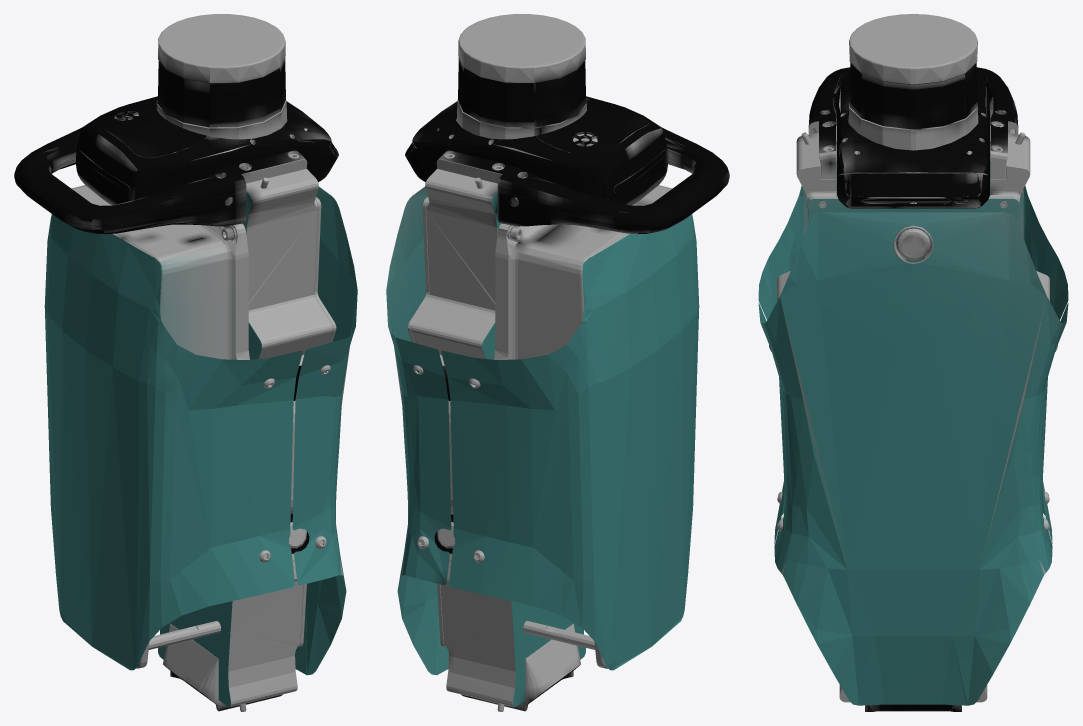
The model's file is torso.obj.
3 renders of one model, left to right at view 1: azimuth 30°, elevation 25°; view 2: azimuth 150°, elevation 25°; view 3: azimuth 270°, elevation 25°, orthographic.
Parts seen in each view (by area): view 1: torso; view 2: torso; view 3: torso.
Part boxes in pixels (x1=…): torso: x1=14, y1=14, x2=357, y2=711; torso: x1=386, y1=14, x2=729, y2=711; torso: x1=758, y1=14, x2=1068, y2=711.
Size of the model in its own units: 0.2461 by 0.5638 by 0.2422.
1 material, 1 textured.
